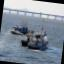fishing boat: (6, 15, 37, 36), (16, 34, 50, 51)
